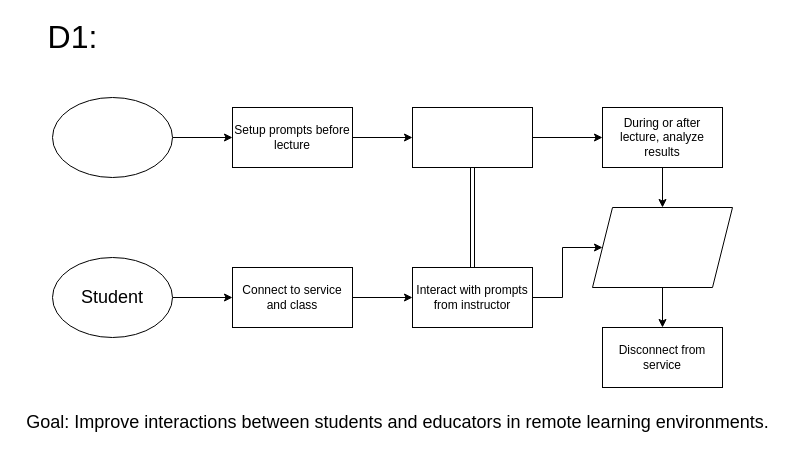
Some shapes in this 794 by 454 pixel diagram are drawn without their labels. The shapes that lost their labels are listed below. From the top down, each one's box as (x1, y1, x2, y2) in pixels, then its label:
(52, 96, 172, 178): Educator
(412, 106, 532, 168): Start lecture and enable prompts
(592, 206, 732, 288): Student engages, educator receives feedback
